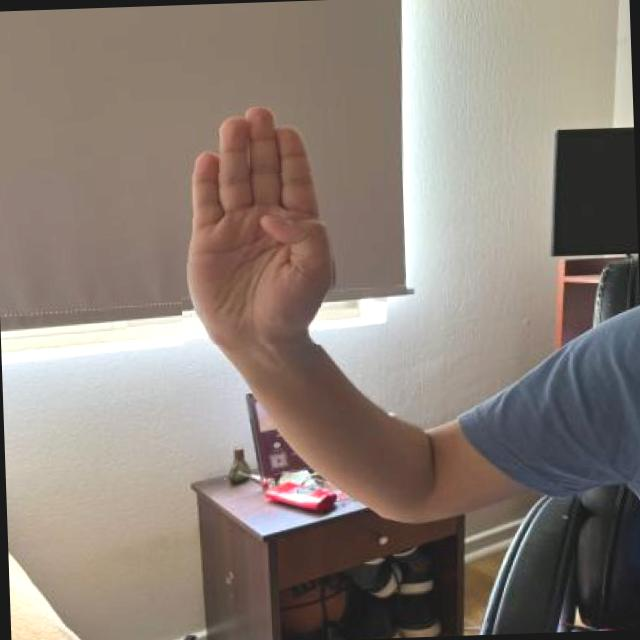B: (174, 103, 338, 349)
